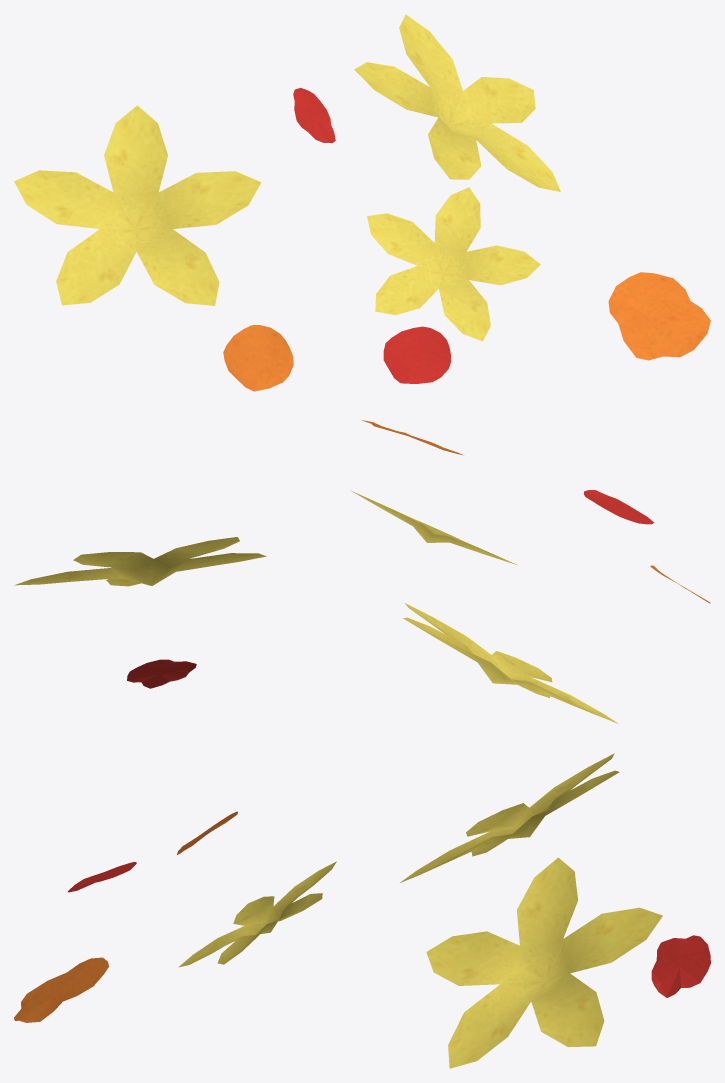
Rendered from Flower_bunch_03.fbx.
3 views of the same model, one above another, from view 1: azimuth 30°, elevation 25°; view 2: azimuth 150°, elevation 25°; view 3: azimuth 270°, elevation 25° (orthographic). The views are drawn at different scales.
Visible parts, largest first — view 1: Flower_bunch_03; view 2: Flower_bunch_03; view 3: Flower_bunch_03.
Boxes of the visible parts, x1,y1,x2,y2 form: Flower_bunch_03: (14,14,710,391); Flower_bunch_03: (14,420,710,723); Flower_bunch_03: (14,753,710,1068).
Size of the model in its own units: 71.62 by 15.55 by 66.4.
